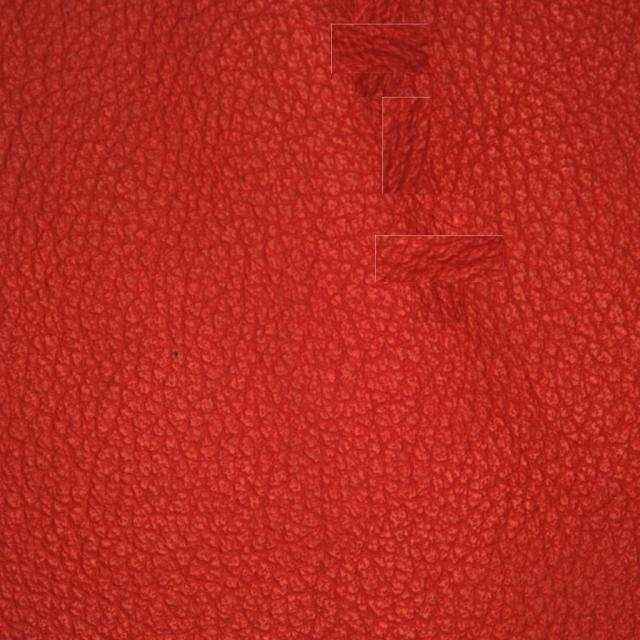Healed Injury: (344, 206, 546, 440), (308, 12, 469, 188)
